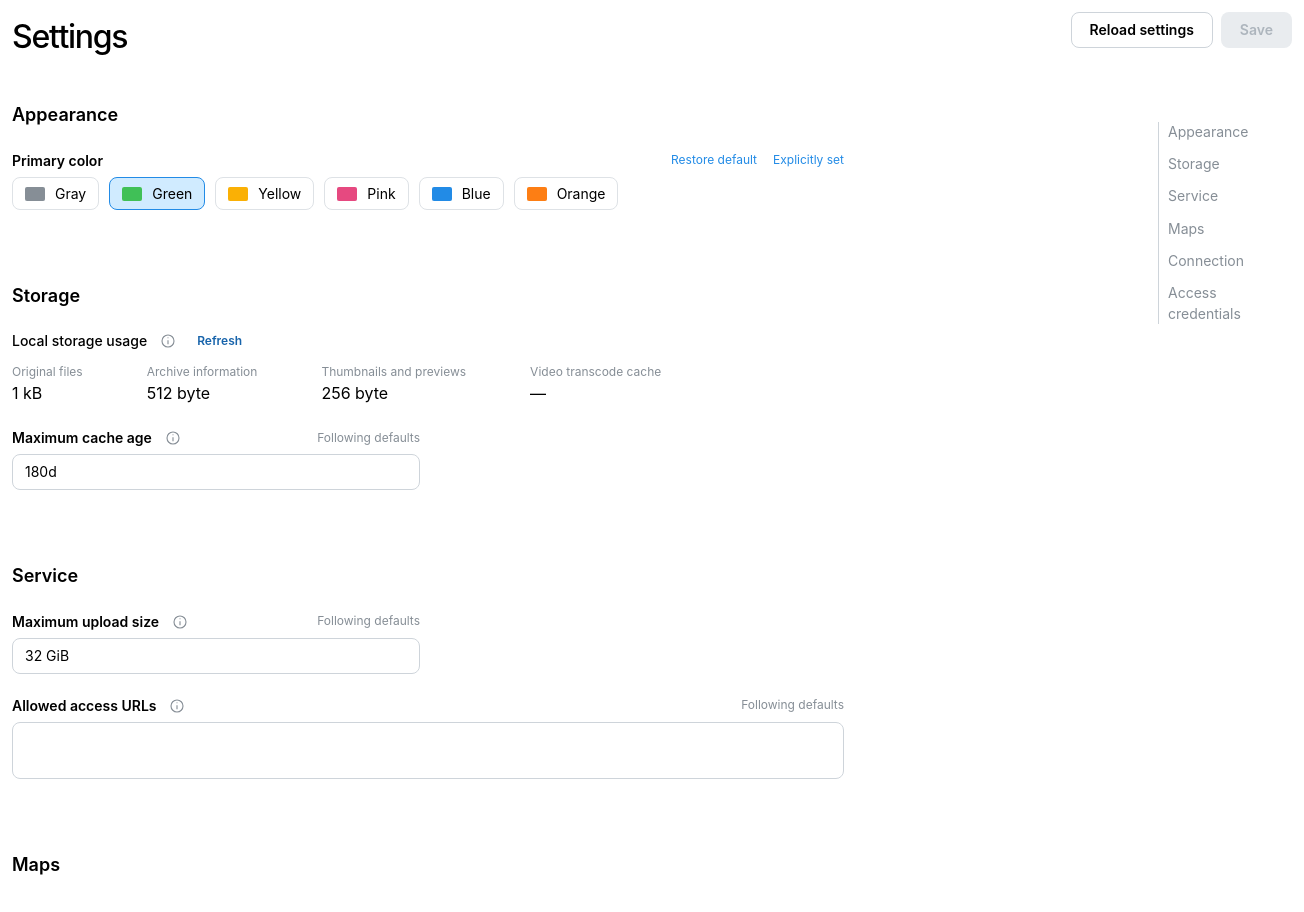
Test: keeps color choices keyboard accessible without saving the draft
The image size is (1304, 912).
Click the radio button labelled "Green". click: (157, 194)
box: [109, 177, 205, 210]
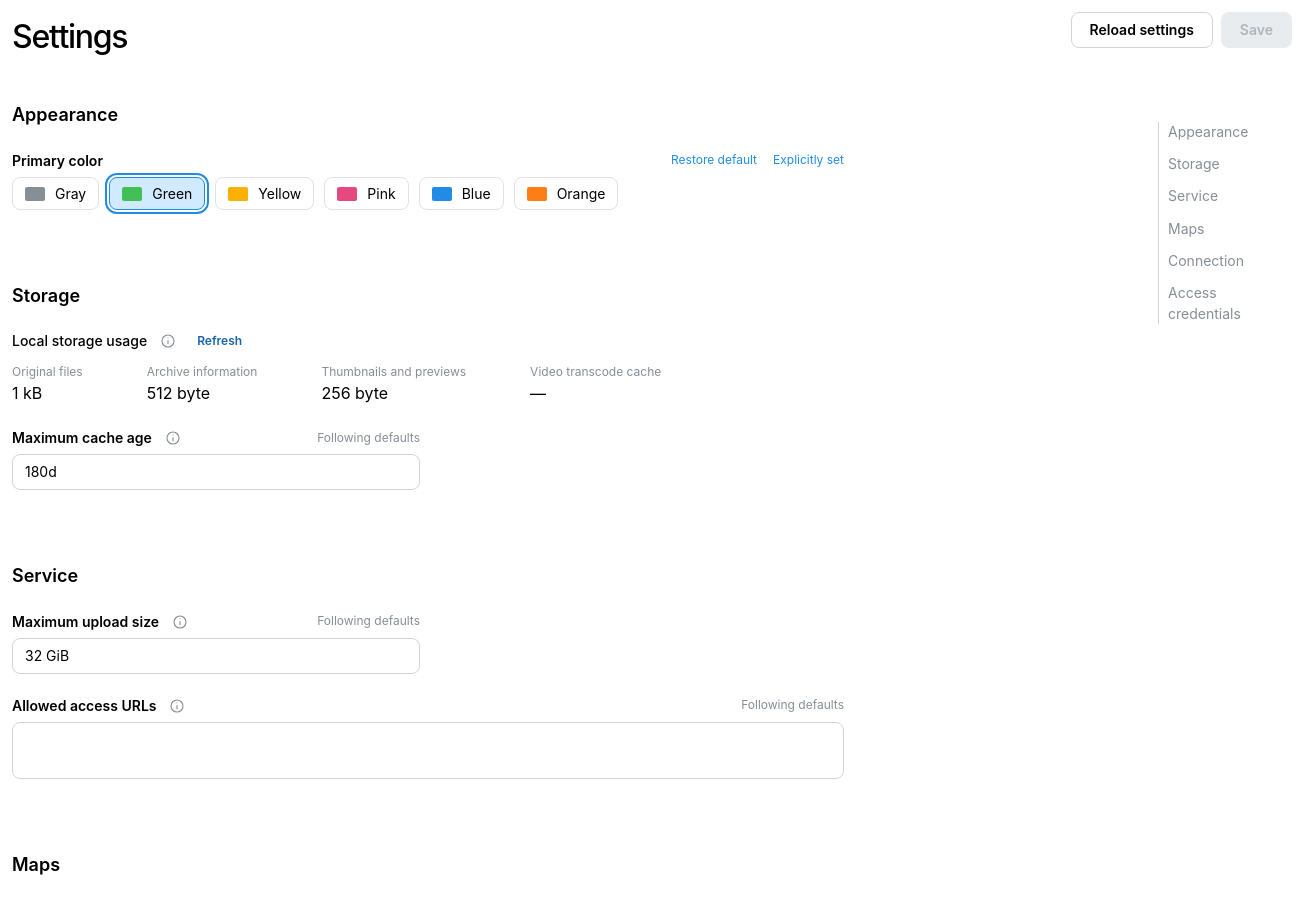
Press Arrowright
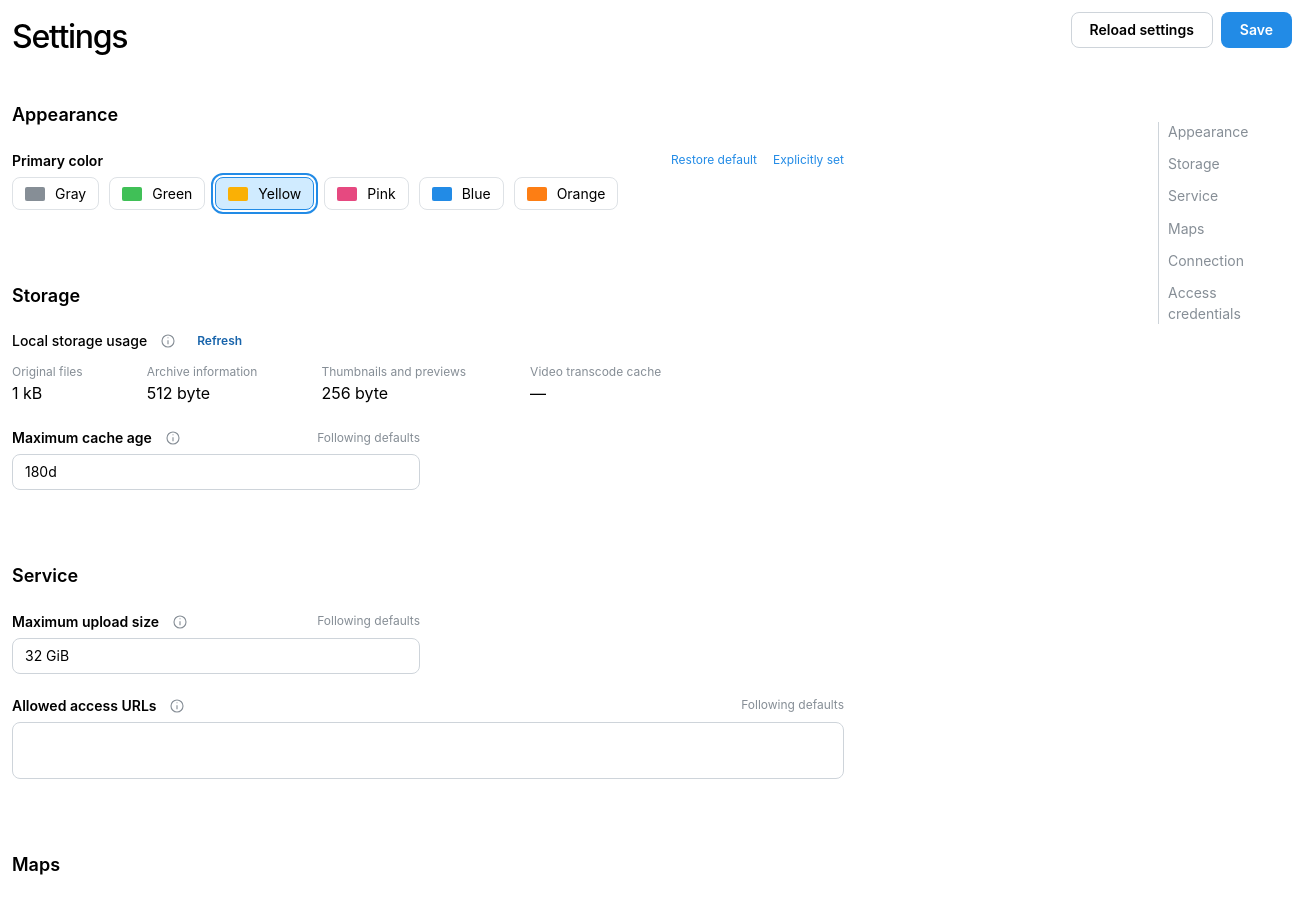
Result: the radio button labelled "Yellow" is checked at [215, 177, 314, 210]
